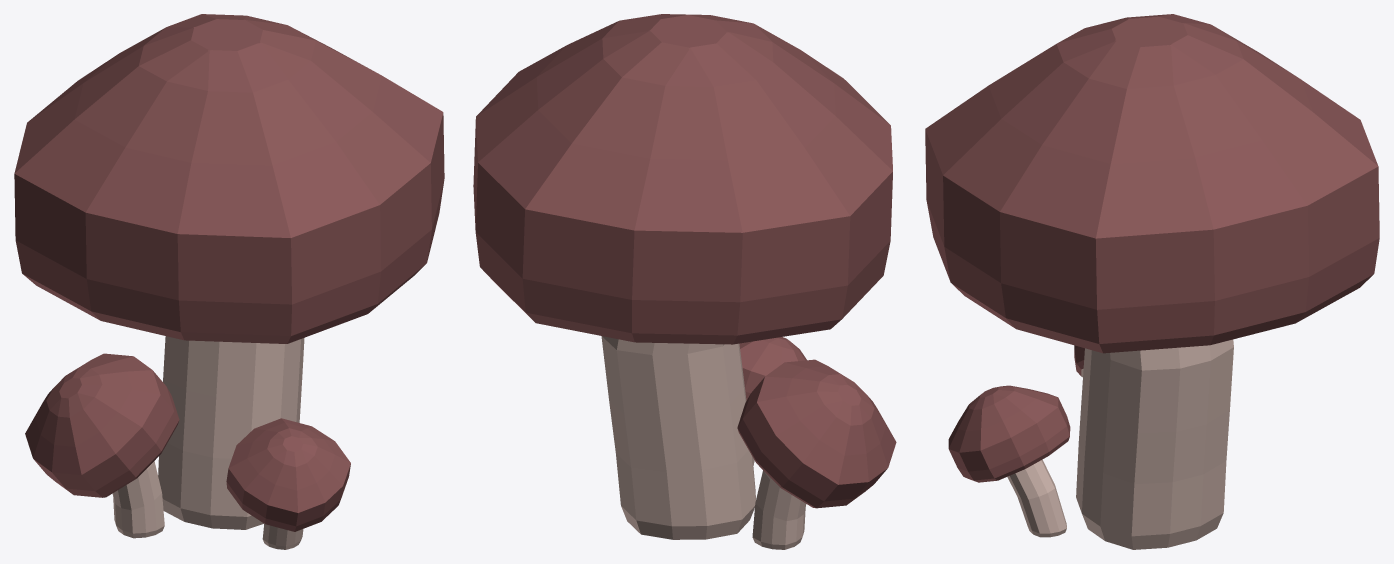
The model's file is Mushroom2.5.fbx.
3 renders of one model, left to right at view 1: azimuth 30°, elevation 25°; view 2: azimuth 150°, elevation 25°; view 3: azimuth 270°, elevation 25°, orthographic. The views are drawn at different scales.
Visible parts, largest first — view 1: Mushroom2.2; view 2: Mushroom2.2; view 3: Mushroom2.2.
Part boxes in pixels (x1=…): Mushroom2.2: x1=14, y1=14, x2=444, y2=549; Mushroom2.2: x1=473, y1=14, x2=896, y2=549; Mushroom2.2: x1=925, y1=14, x2=1379, y2=549.
Size of the model in its own units: 160 by 192 by 160.
